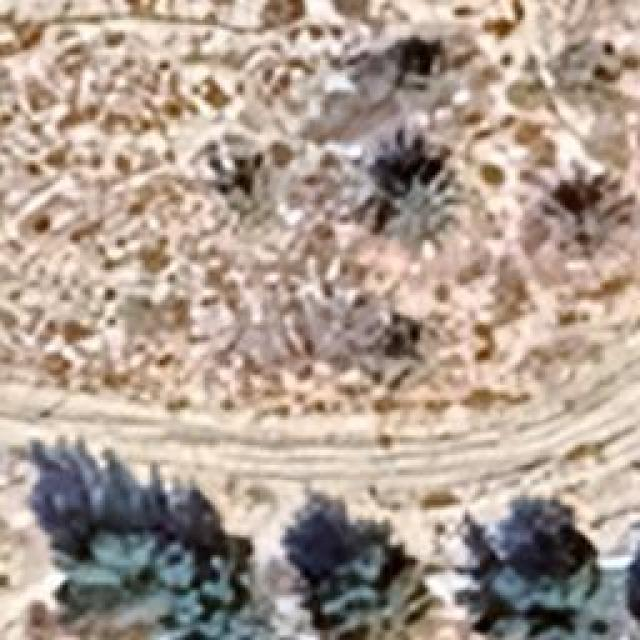PalmTree: (80, 103, 381, 593), (132, 93, 262, 199), (537, 186, 640, 283), (376, 141, 456, 249), (368, 41, 460, 104), (378, 300, 428, 375)
